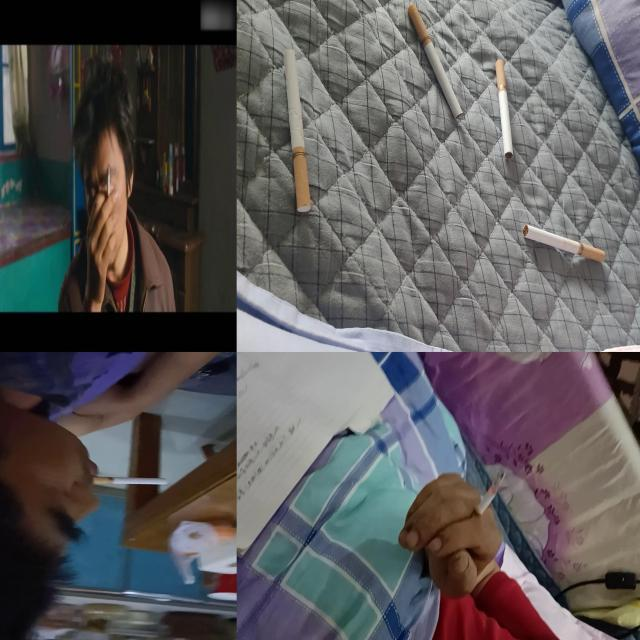smoke: (408, 3, 464, 120), (283, 49, 312, 212), (523, 224, 606, 264), (468, 469, 507, 526), (496, 60, 514, 160), (92, 476, 168, 484), (106, 162, 111, 198)
